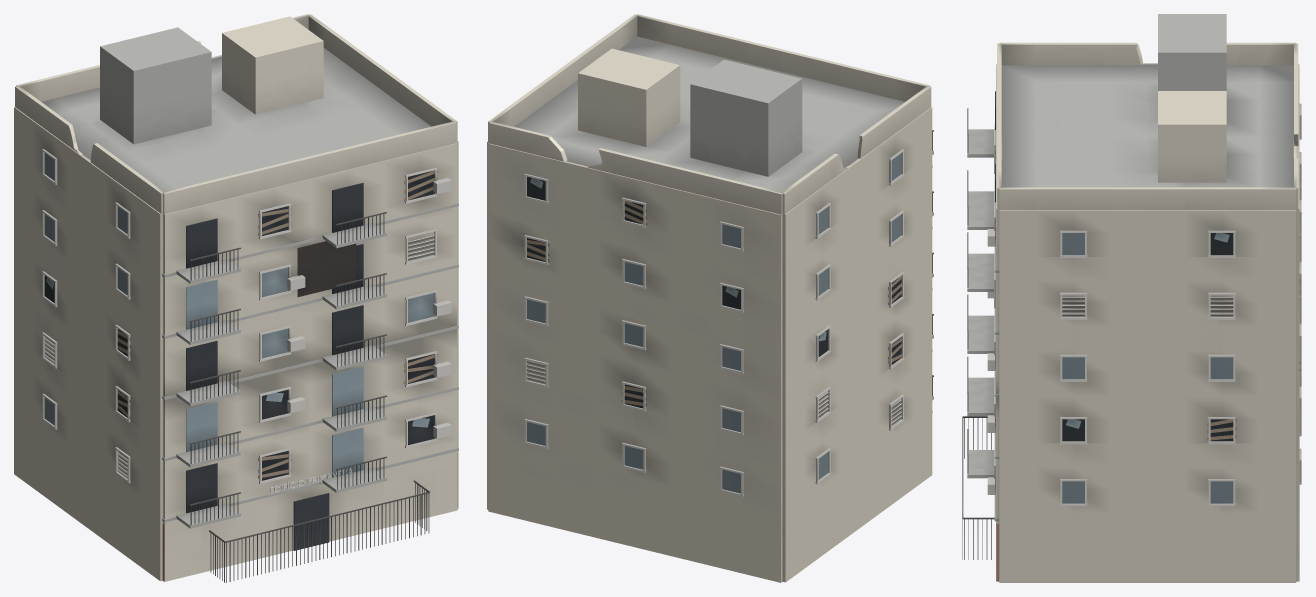
Rendered from apto_4.glb.
3 renders of one model, left to right at view 1: azimuth 30°, elevation 25°; view 2: azimuth 150°, elevation 25°; view 3: azimuth 270°, elevation 25°, orthographic.
Visible parts, largest first — view 1: ext, detalhe, longe; view 2: ext, longe, detalhe; view 3: ext, longe, detalhe.
Boxes of the visible parts, x1=… form: ext: x1=14, y1=55, x2=458, y2=581; detalhe: x1=42, y1=16, x2=451, y2=582; longe: x1=15, y1=14, x2=458, y2=582; ext: x1=487, y1=107, x2=932, y2=582; longe: x1=488, y1=14, x2=932, y2=412; detalhe: x1=524, y1=48, x2=933, y2=496; ext: x1=996, y1=63, x2=1299, y2=582; longe: x1=962, y1=42, x2=1298, y2=581; detalhe: x1=963, y1=14, x2=1301, y2=559.
Size of what is drawn, in the model's own units: 15.48 by 21.6 by 14.87.
